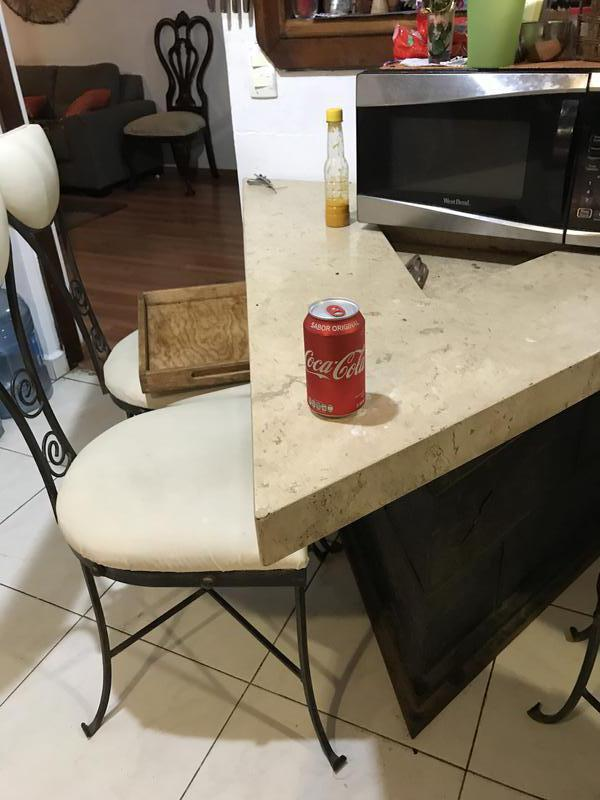coca_cola: (305, 298, 369, 422)
